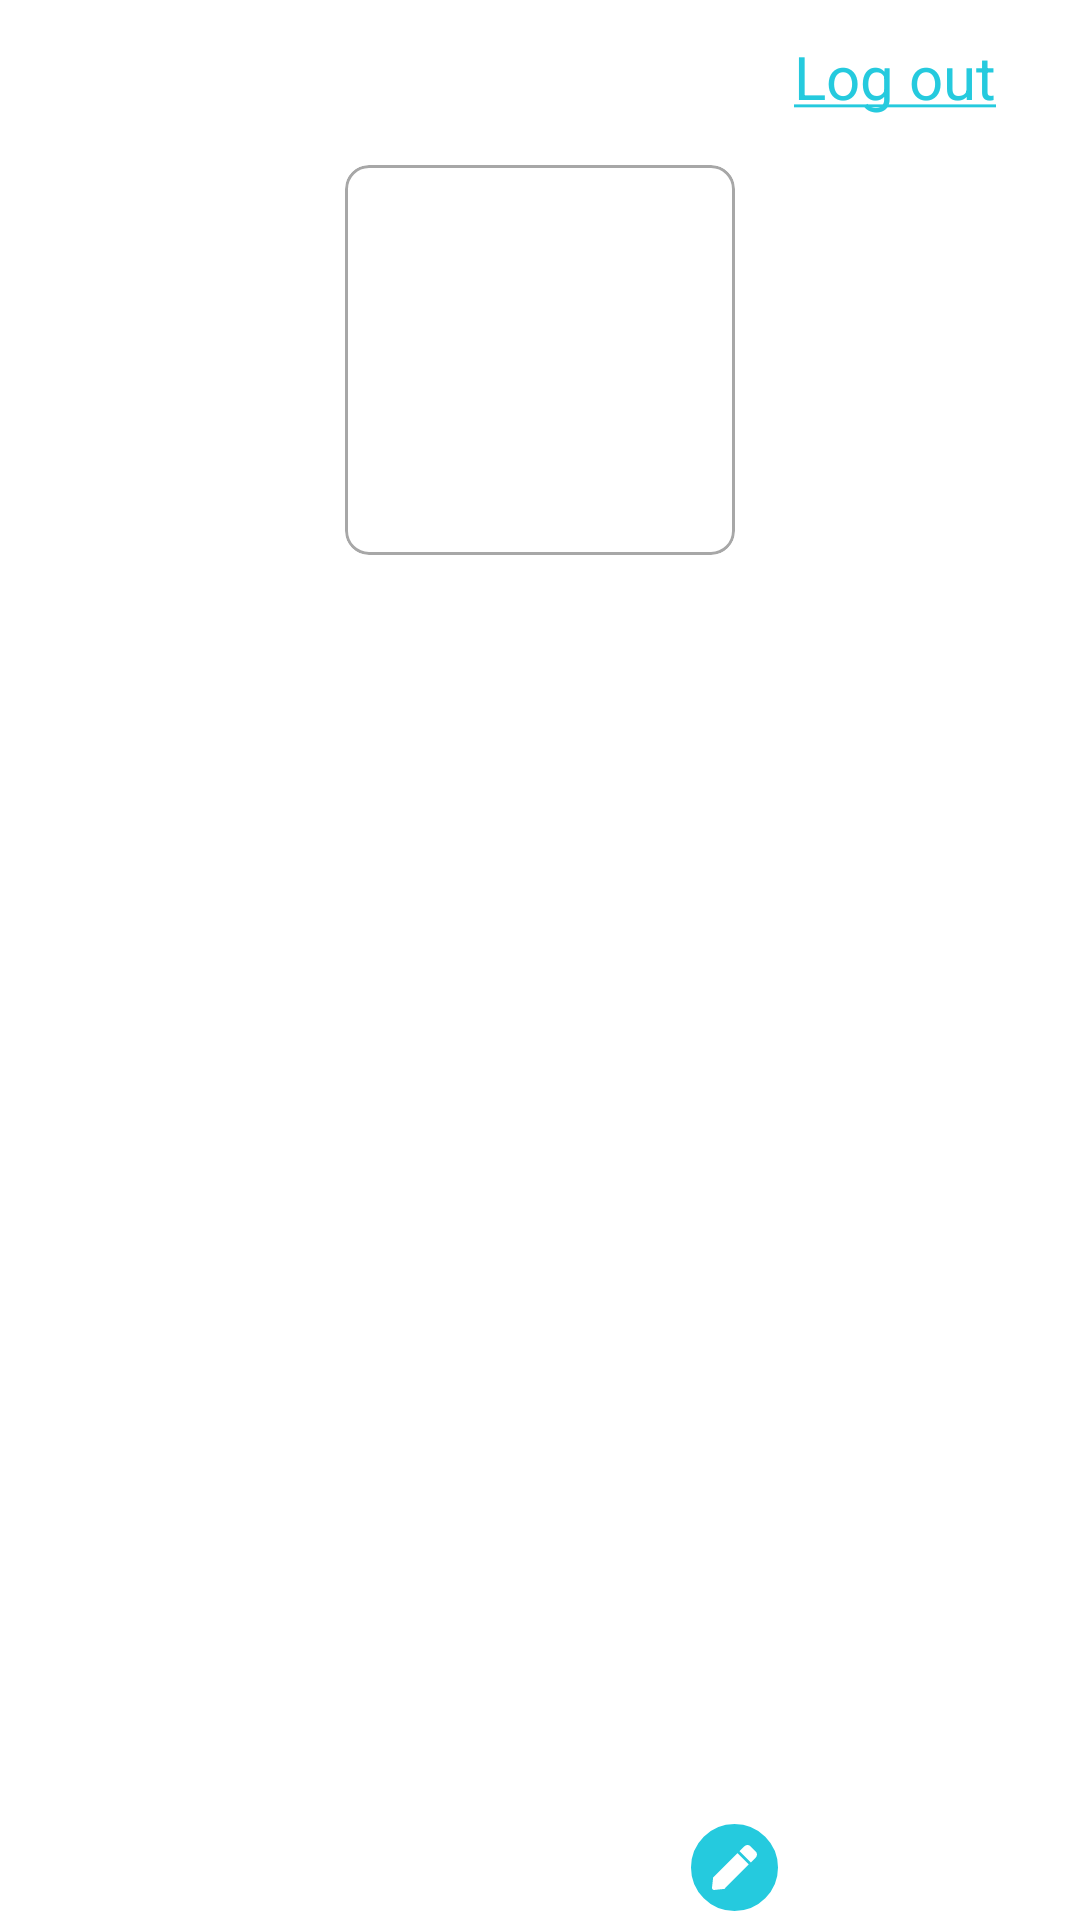

Named icons in this screenshot (1080*1920) and their bounding boxes, [x1=x1, y1=y1, x2=x2, y2=y2]:
pencil: [x1=691, y1=1824, x2=778, y2=1911]
